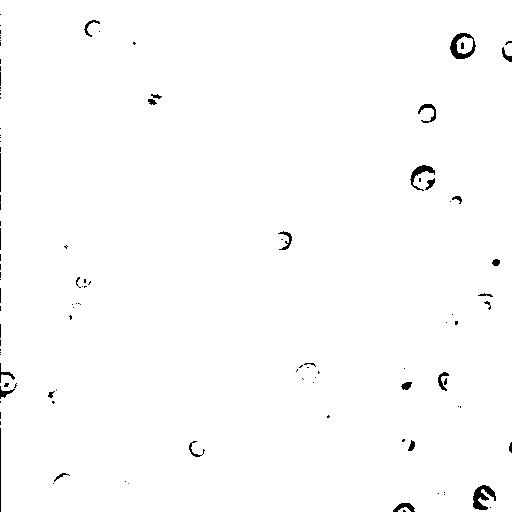micro-algae: (191, 258, 261, 329), (103, 76, 164, 139), (99, 200, 153, 252), (0, 290, 41, 331), (377, 16, 415, 57), (47, 237, 83, 271), (422, 484, 460, 512), (476, 248, 510, 274), (449, 31, 478, 61), (105, 477, 135, 505), (409, 163, 436, 192), (395, 369, 422, 397), (469, 295, 497, 321), (272, 230, 294, 261), (295, 361, 321, 387), (62, 301, 90, 325), (125, 27, 151, 51), (473, 485, 497, 510), (51, 471, 73, 498), (119, 342, 144, 364), (1, 369, 19, 395), (49, 386, 69, 409), (418, 102, 437, 125), (82, 18, 103, 37), (447, 313, 465, 334), (437, 373, 457, 391), (188, 438, 206, 457), (75, 269, 94, 287), (500, 37, 512, 63), (391, 501, 418, 511), (447, 194, 463, 207), (0, 396, 10, 413)
